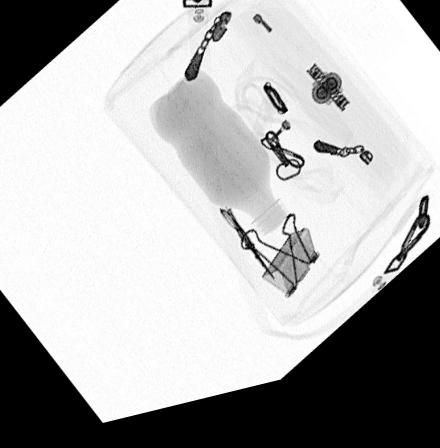Scissors: (218, 218, 276, 292)
